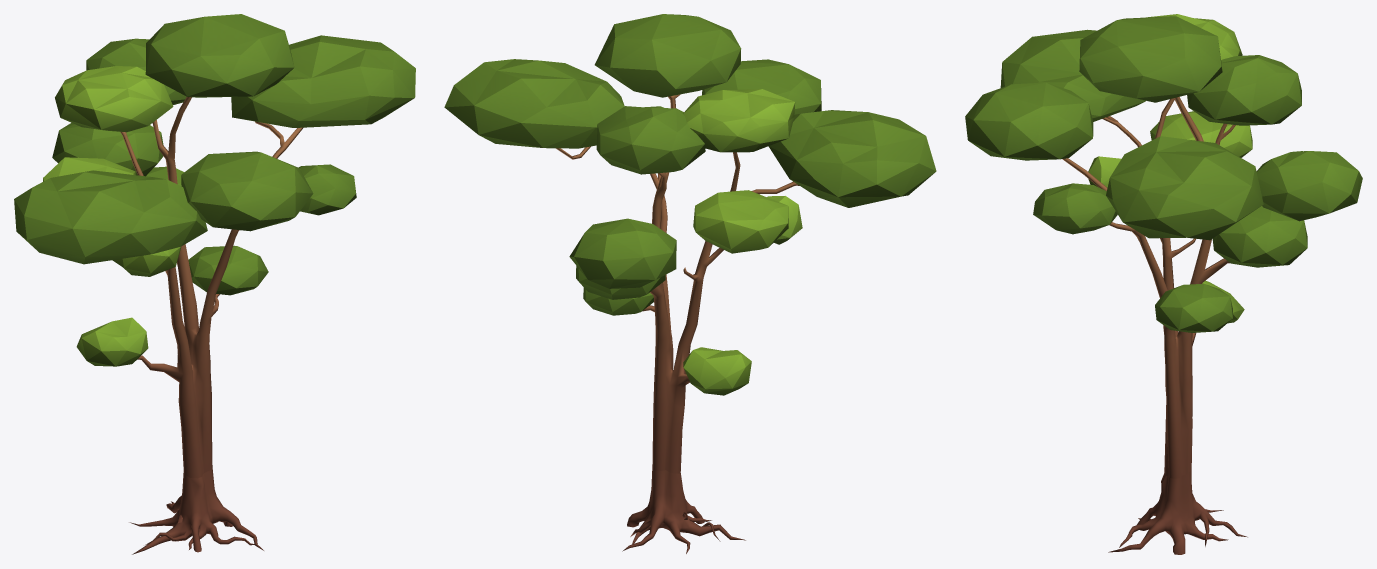
The model's file is ZLP_Plant_F_7.FBX.
The picture shows the model from 3 angles, left to right: view 1: azimuth 30°, elevation 25°; view 2: azimuth 150°, elevation 25°; view 3: azimuth 270°, elevation 25°; orthographic projection. The views are drawn at different scales.
Parts seen in each view (by area): view 1: ZLP_Plant_F_7; view 2: ZLP_Plant_F_7; view 3: ZLP_Plant_F_7.
Boxes of the visible parts, box(x1,y1,x2,y2) form: ZLP_Plant_F_7: box(14, 14, 415, 554); ZLP_Plant_F_7: box(444, 14, 936, 553); ZLP_Plant_F_7: box(965, 14, 1362, 554).
Size of the model in its own units: 468 by 528 by 374.
